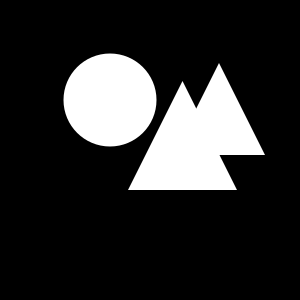rectangle: (63, 53, 156, 146)
triangle: (128, 81, 237, 190), (173, 63, 265, 155)
